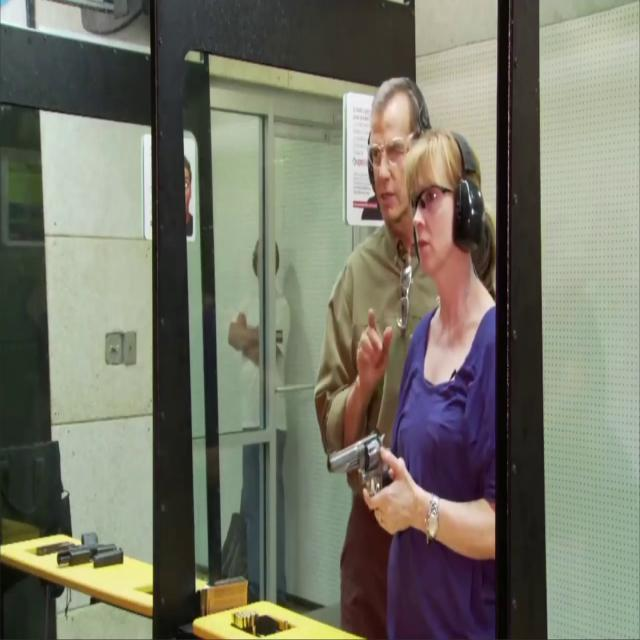gun: (330, 426, 396, 519)
